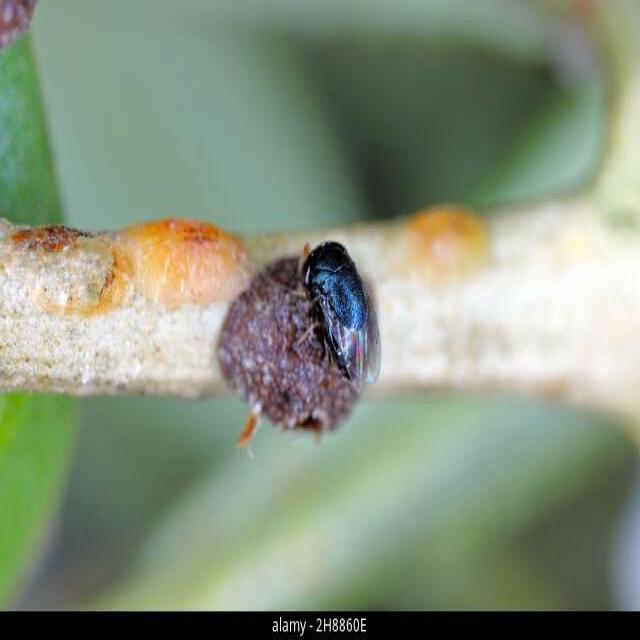Black Scale: (216, 242, 379, 445)
